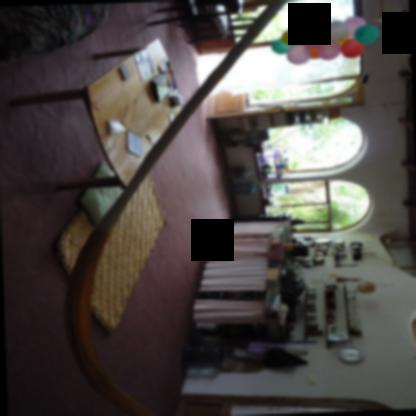handbag: (264, 348, 308, 368)
